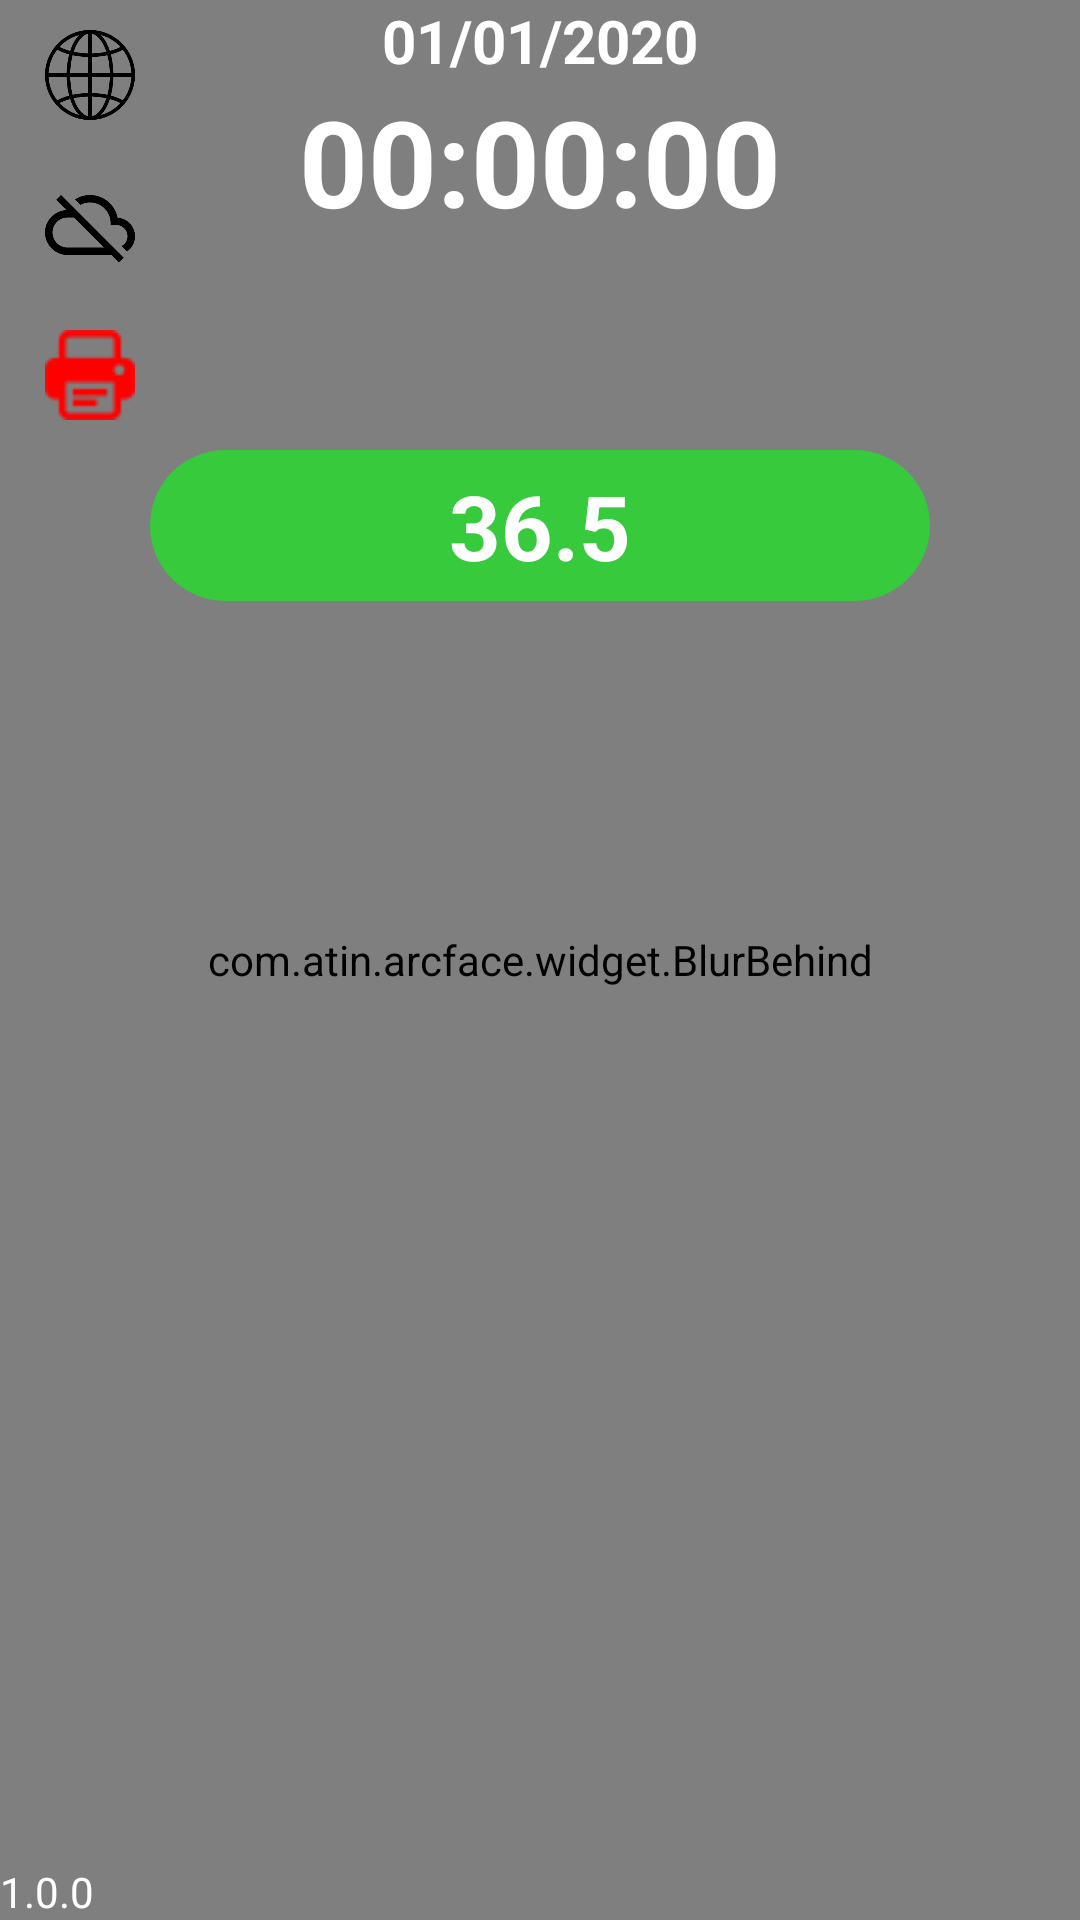

Icon bounding boxes for this 1080px×1920px phone screenshot, format (x1, y1, x2, y2):
cloud off: (45, 195, 135, 262)
printer disconnected: (45, 330, 135, 420)
